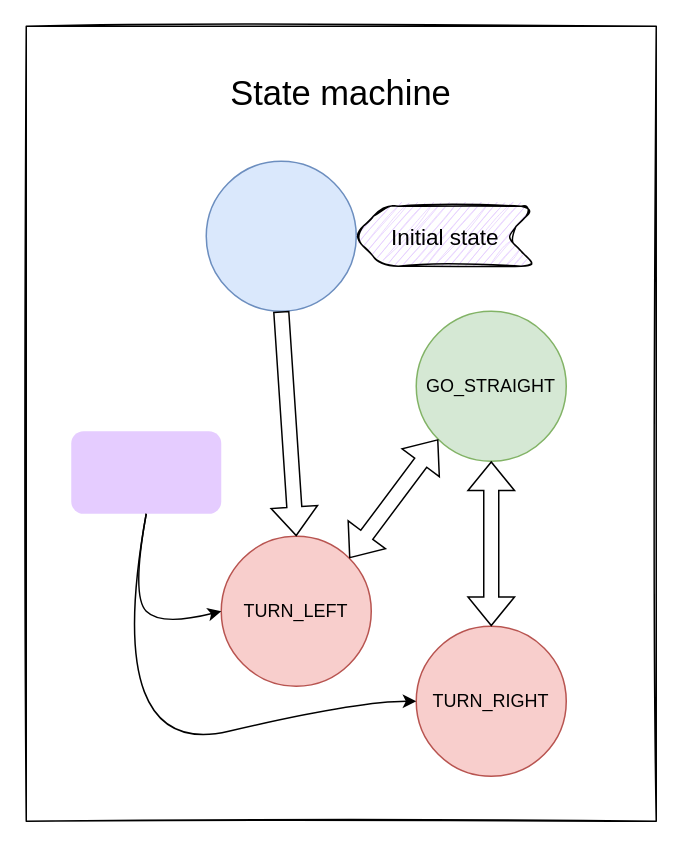
This 683x848 diagram has some shape labels left out. The centre of each missing label's shape, as x and y in pixels:
"SEARCH_WALL" belongs at point (280, 235).
"This turns can be static (linear vel = 0)" belongs at point (145, 471).
